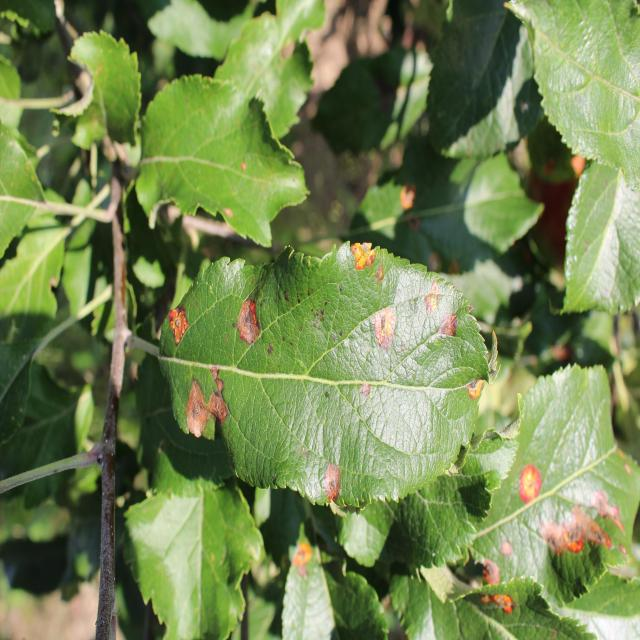Rust: (180, 368, 231, 444), (368, 298, 400, 359), (518, 460, 553, 512), (236, 294, 265, 351), (348, 231, 379, 281), (324, 445, 346, 515), (164, 299, 190, 350), (422, 274, 440, 329), (464, 379, 490, 416), (442, 310, 460, 349), (359, 372, 372, 402)
